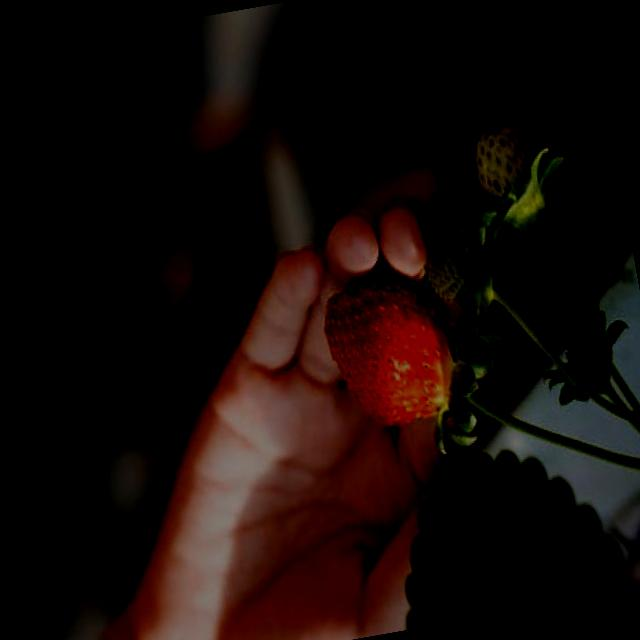Strawberry: (316, 264, 468, 436), (468, 115, 542, 220), (422, 236, 499, 321)
